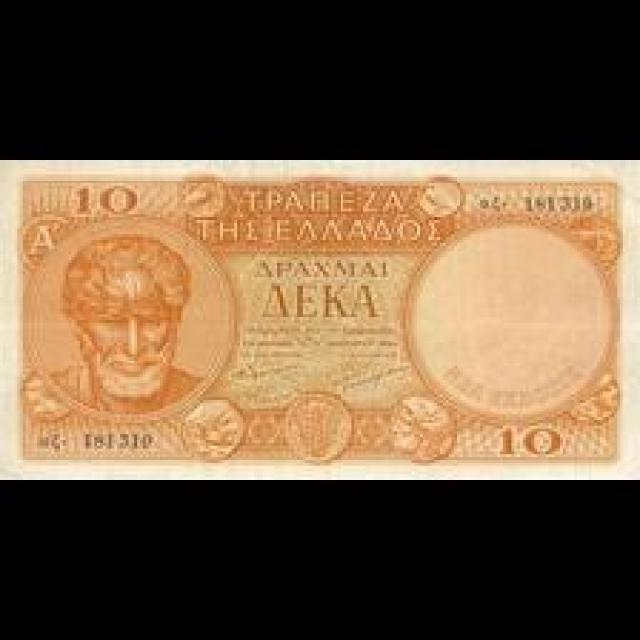banknote: (4, 158, 638, 478), (484, 411, 576, 464), (70, 177, 151, 225)
